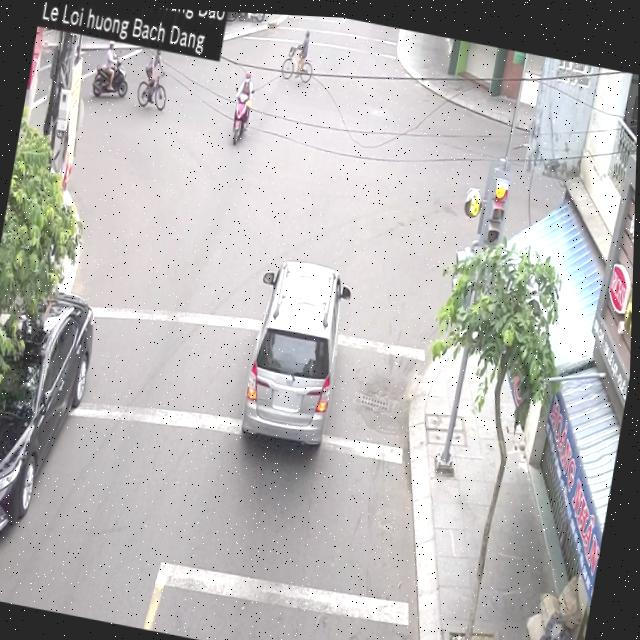Red: (480, 167, 515, 262)
